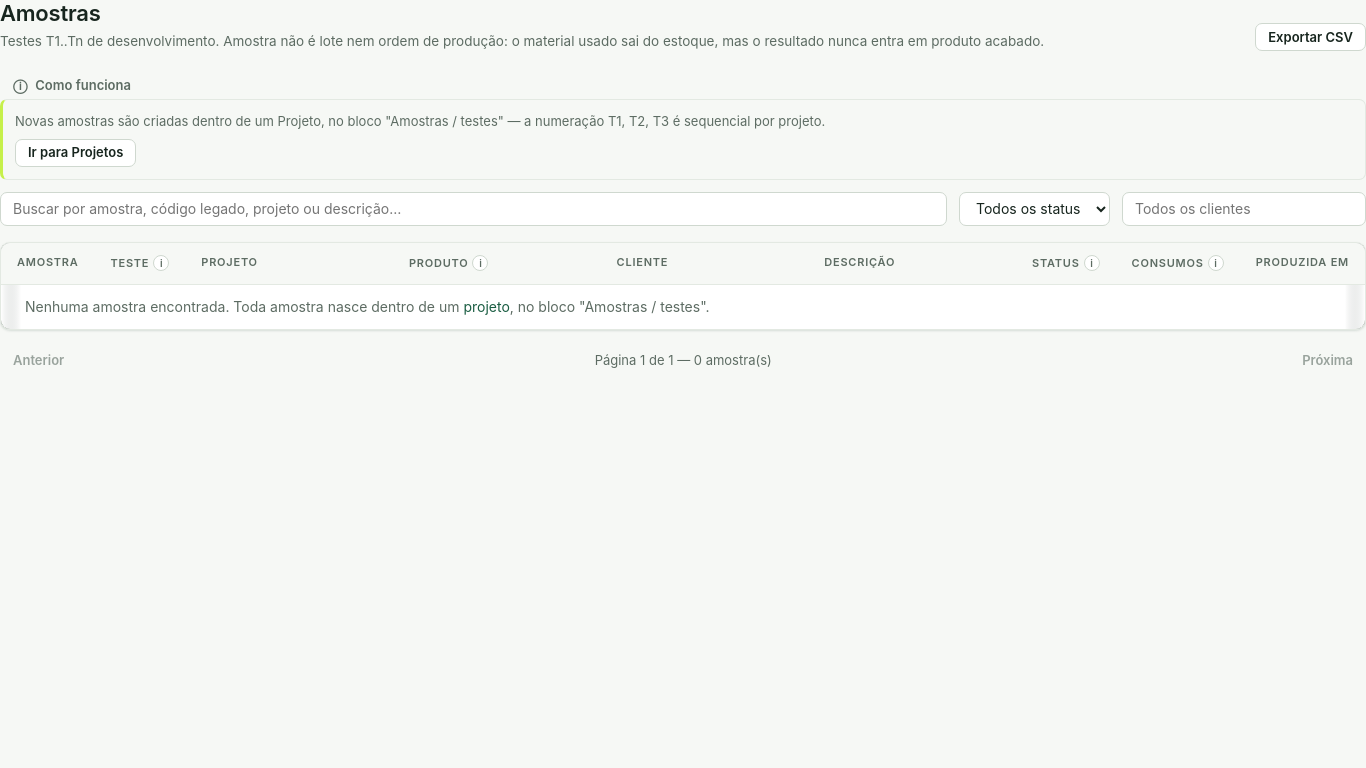
Test: Amostras (lista) › diz que amostra não é lote nem ordem de produção — e começa fechado
The image size is (1366, 768).
Click the button "ⓘ Como funciona" at coordinates (72, 85), box left=0, top=71, right=144, bottom=99
(page scrolled)
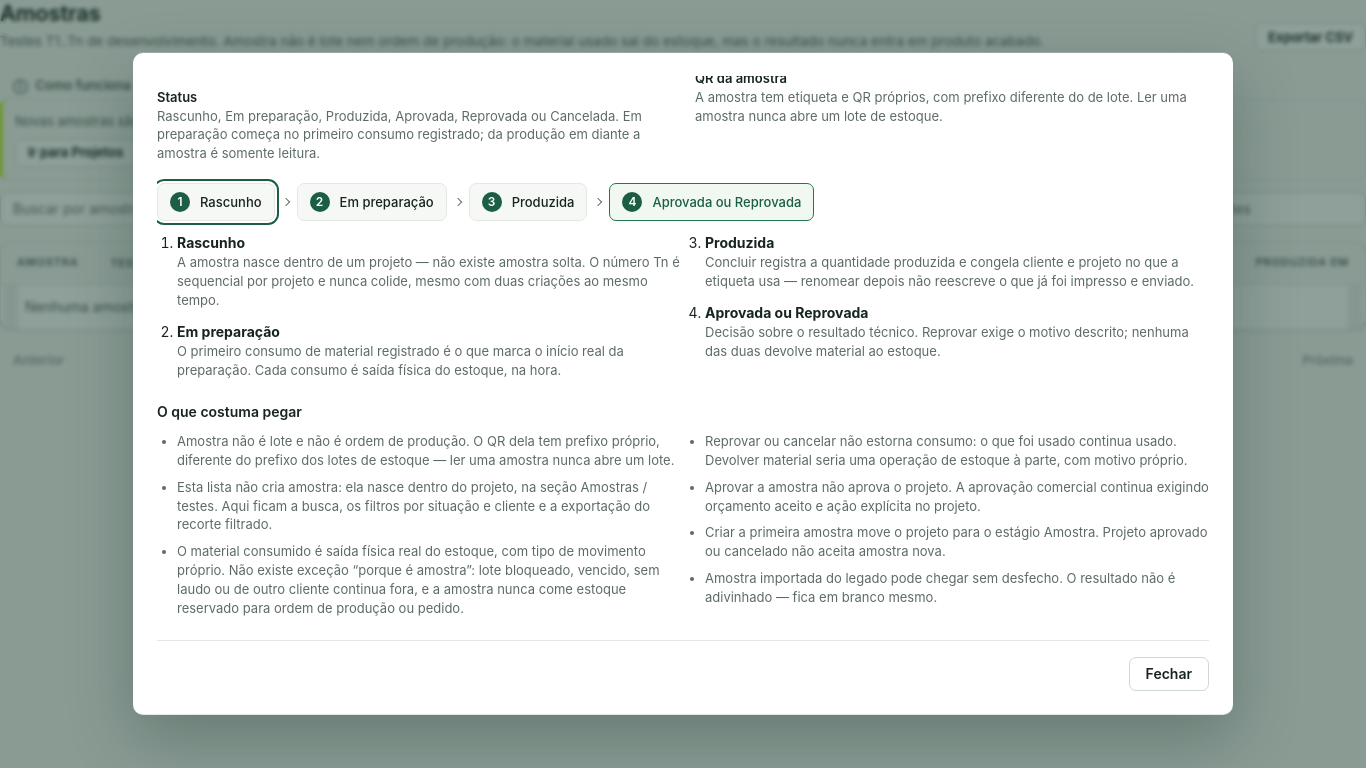
Expected: the button "ⓘ Como funciona" is expanded, left=0, top=71, right=144, bottom=99
Expected: the list item "Amostra não é lote e não é ordem de produção" is shown, left=177, top=433, right=674, bottom=468
Click the button "Fechar" at coordinates (1169, 674), box left=1129, top=657, right=1209, bottom=691
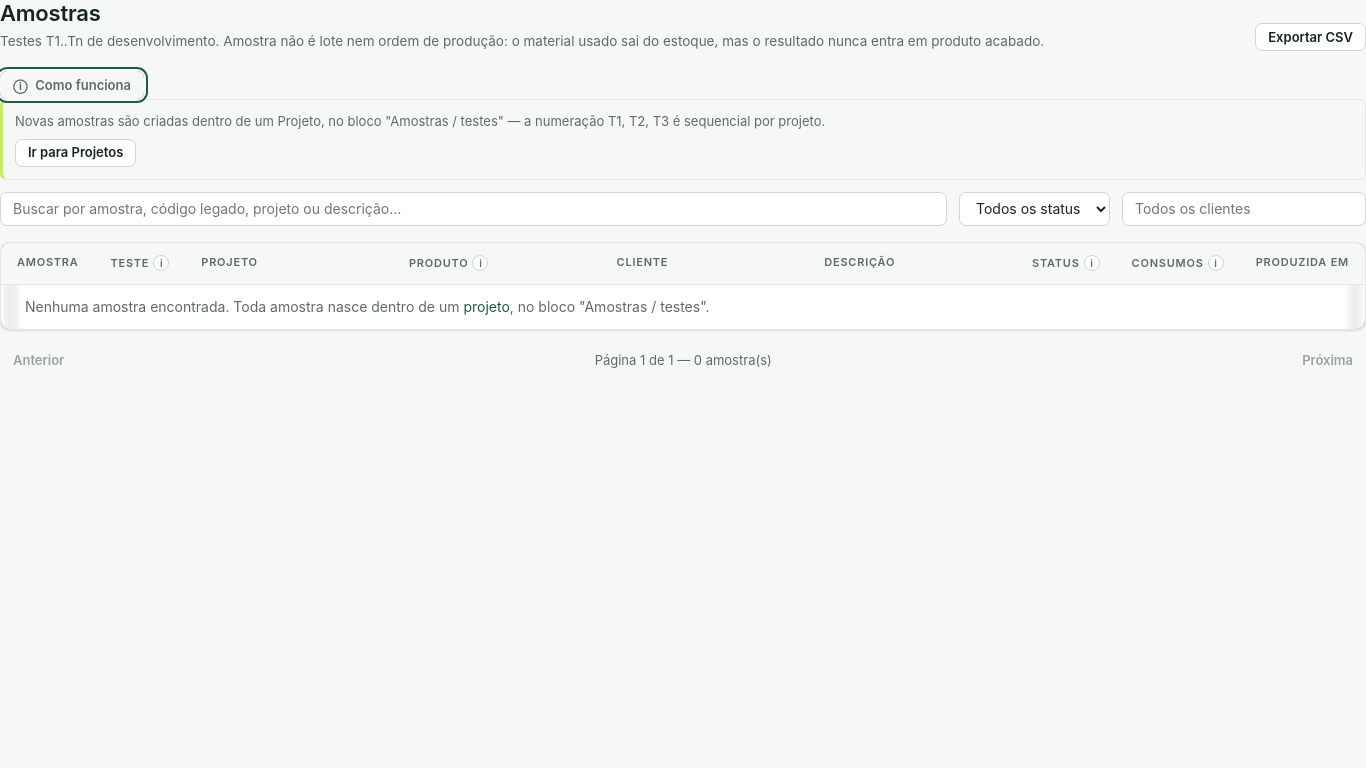
Expected: the button "ⓘ Como funciona" is collapsed, left=0, top=71, right=144, bottom=99
